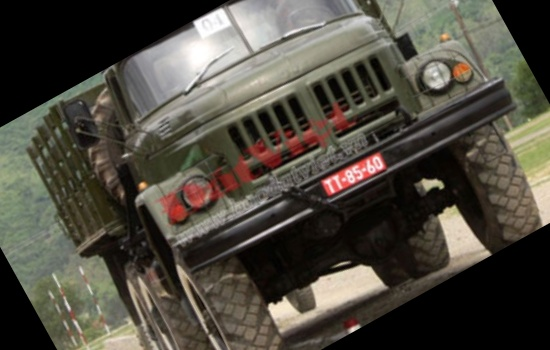plate: (316, 154, 387, 199)
